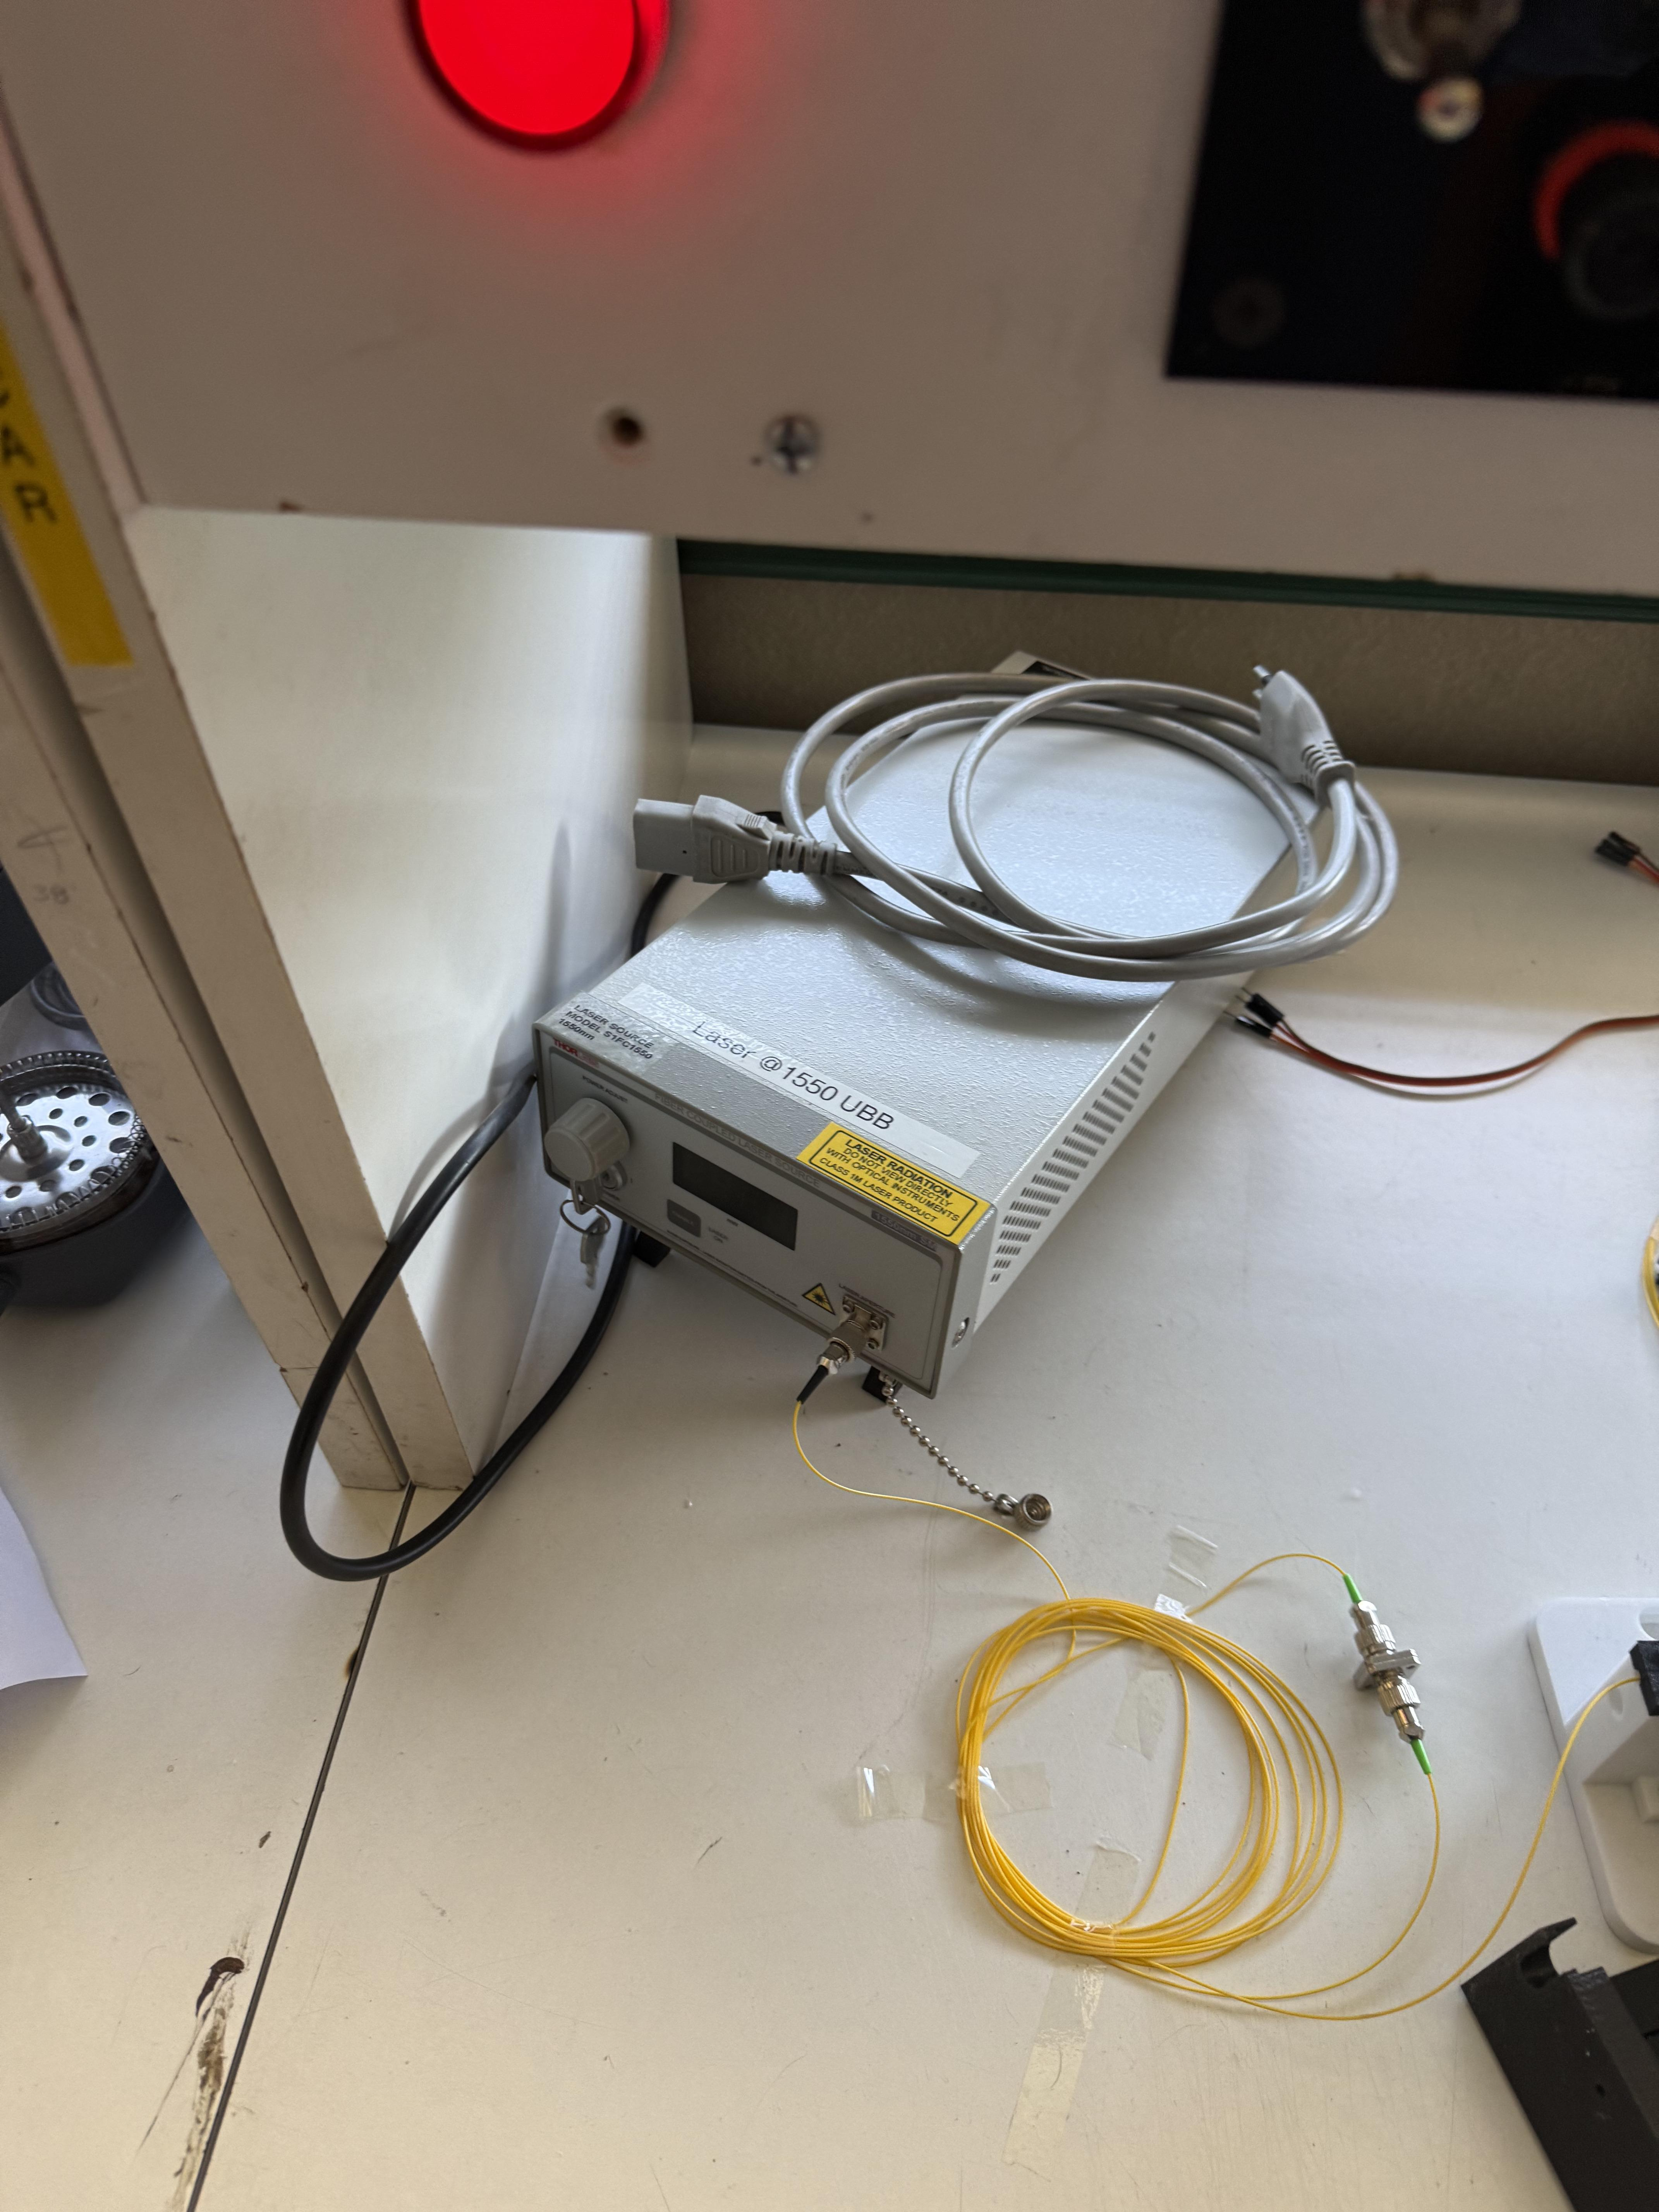fiber_cable: (898, 1522, 1448, 2052)
laser: (496, 635, 1479, 1479)
